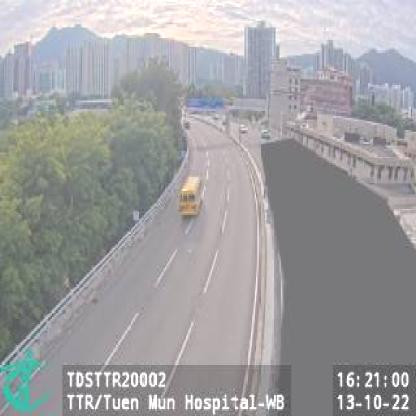Bus: (178, 173, 203, 217)
